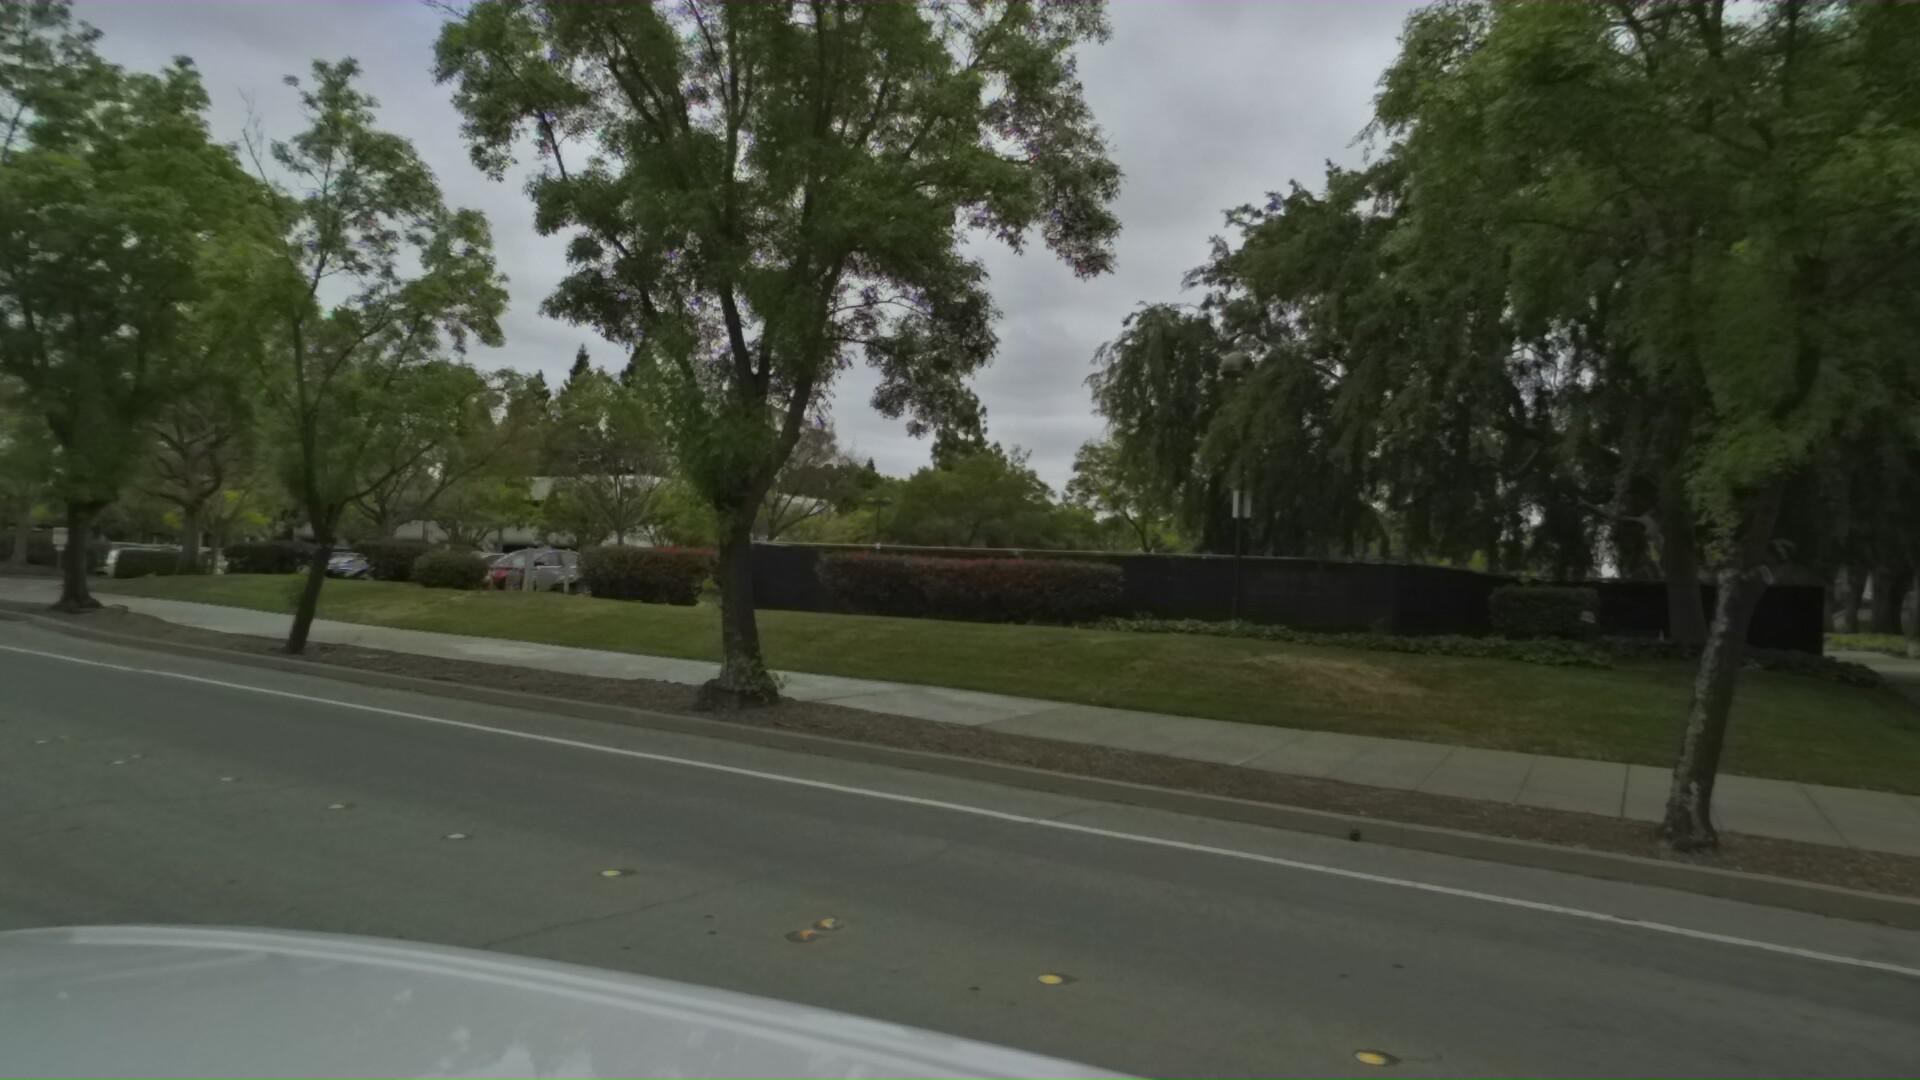car: (1665, 563, 1920, 1080)
